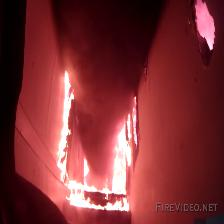fire: (50, 56, 152, 217)
